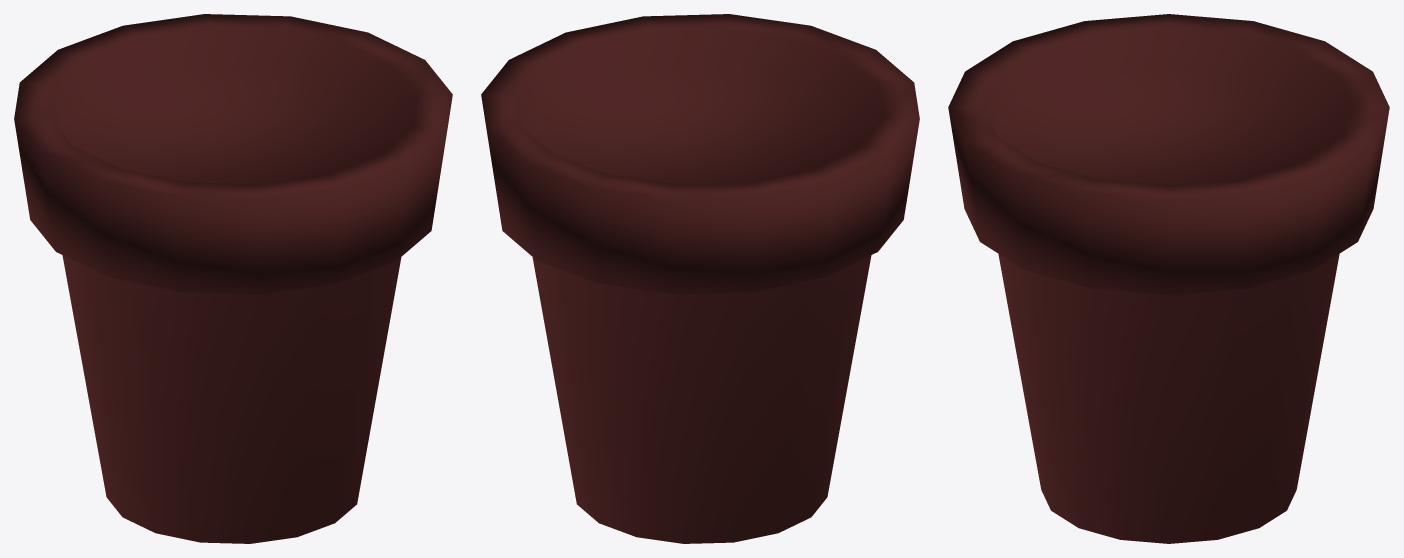
Rendered from tool10.fbx.
3 views of the same model, side by side, from view 1: azimuth 30°, elevation 25°; view 2: azimuth 150°, elevation 25°; view 3: azimuth 270°, elevation 25° (orthographic).
Visible parts, largest first — view 1: Vase_01_Circle.001; view 2: Vase_01_Circle.001; view 3: Vase_01_Circle.001.
Boxes of the visible parts, bbox=[...] form: Vase_01_Circle.001: bbox=[14, 14, 452, 543]; Vase_01_Circle.001: bbox=[481, 14, 919, 543]; Vase_01_Circle.001: bbox=[948, 14, 1389, 543].
Size of the model in its own units: 242 by 231 by 242.
